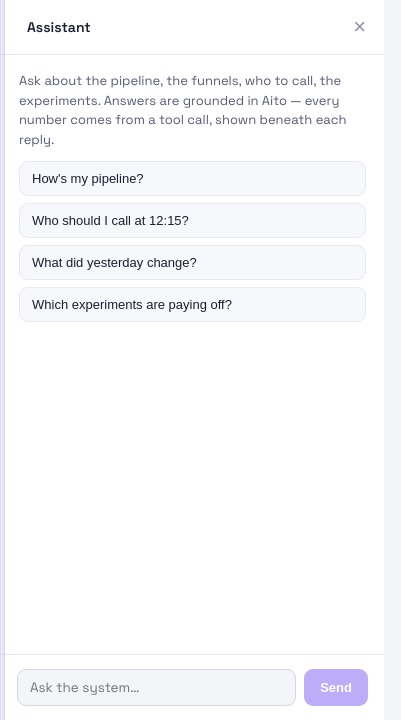
Test: Assistant chat panel › sends the conversation and renders the grounded reply + tool trace
This screenshot has width=401, height=720.
Type "How's my pipeline?" into the field with placeholder "Ask the system…" at {"x": 157, "y": 688}, box [17,669,296,706]
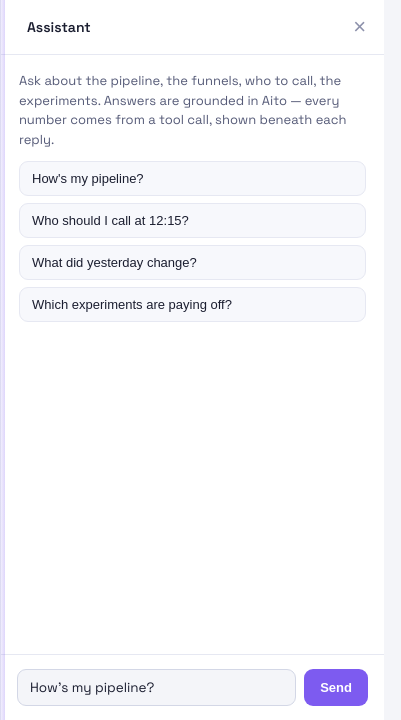
Click the button "Send" at {"x": 336, "y": 688}, box [304,669,368,706]
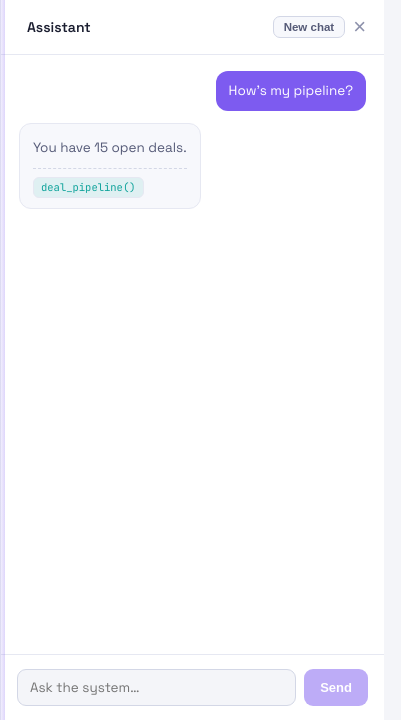
Expected: the text "How's my pipeline?" is shown, [216,71,366,111]
Expected: the text "You have 15 open deals." is shown, [33,138,186,159]
Expected: the text "deal_pipeline()" is shown, [33,176,144,198]
